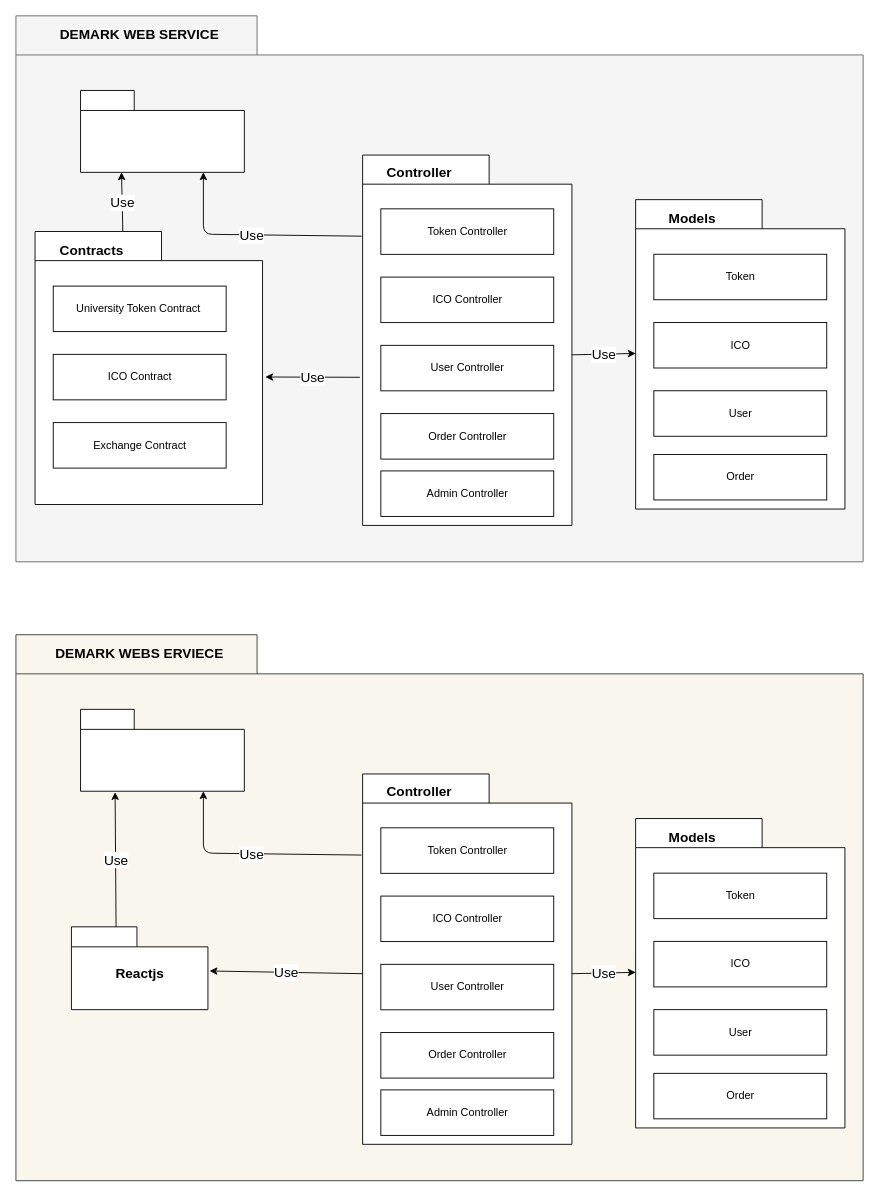
Some shapes in this 879 by 1198 pixel diagram are drawn without their labels. The centre of each missing label's shape, as x and y in pixels:
"Ethereum Service" belongs at [162,749].
"Node Module" belongs at [162,131].
